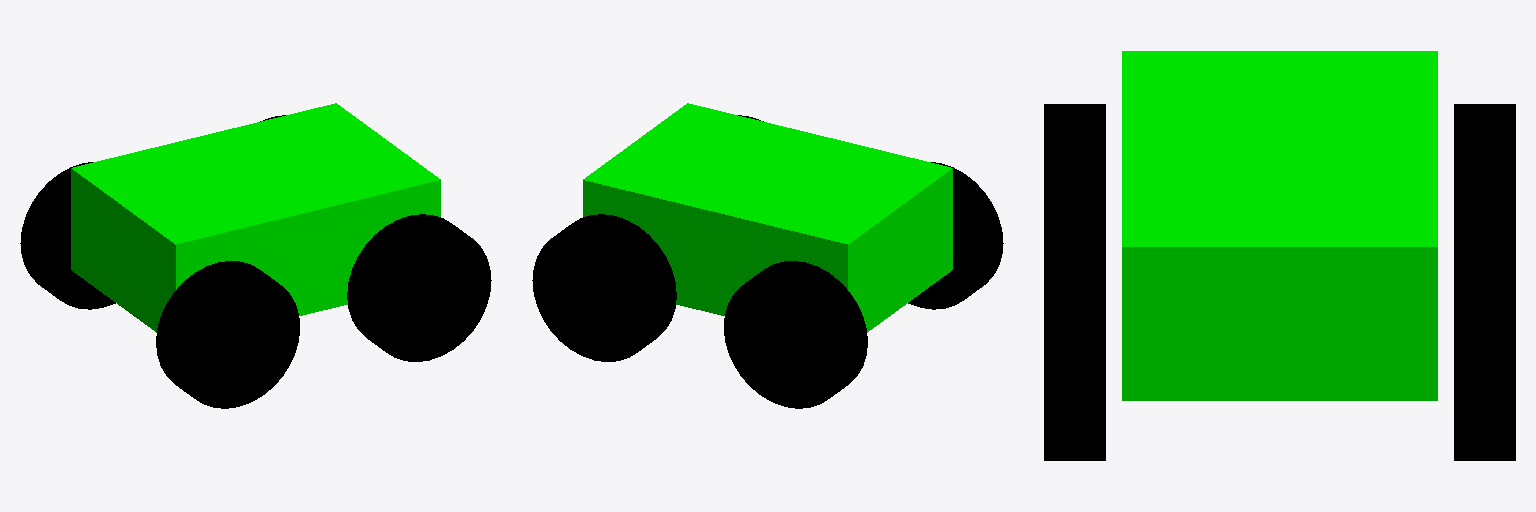
robot.urdf — smb:
<?xml version="1.0" ?>
<!-- =================================================================================== -->
<!-- |    This document was autogenerated by xacro from [local-path]/catkin_ws/src/smb_common/smb_description/urdf/smb_standalone.urdf.xacro | -->
<!-- |    EDITING THIS FILE BY HAND IS NOT RECOMMENDED                                 | -->
<!-- =================================================================================== -->
<robot name="smb" xmlns:xacro="http://www.ros.org/wiki/xacro">
  <gazebo>
    <plugin filename="libsmb_gazebo.so" name="gazebo_ros_control">
      <robotNamespace>smb</robotNamespace>
      <robotDescription>smb_description</robotDescription>
      <robotBaseLink>base</robotBaseLink>
      <statePublisherRate>400.0</statePublisherRate>
    </plugin>
  </gazebo>
  <!-- Materials -->
  <material name="black">
    <color rgba="0 0 0 255"/>
  </material>
  <material name="blue">
    <color rgba="0 0 200 255"/>
  </material>
  <material name="green">
    <color rgba="0 200 0 255"/>
  </material>
  <material name="grey">
    <color rgba="50 50 50 255"/>
  </material>
  <material name="orange">
    <color rgba="255 108 10 255"/>
  </material>
  <material name="brown">
    <color rgba="222 207 195 255"/>
  </material>
  <material name="red">
    <color rgba="200 0 0 255"/>
  </material>
  <material name="white">
    <color rgba="255 255 255 255"/>
  </material>
  <!-- continuous for gazebo -->
  <!-- Global Properties -->
  <!--xacro:property name="robot_name" value="smb"/-->
  <link name="base">
    <collision>
      <origin rpy="0 0 0" xyz="0 0 0"/>
      <geometry>
        <box size="0.6 0.41 0.22"/>
      </geometry>
    </collision>
    <visual>
      <origin rpy="0 0 0" xyz="0 0 0"/>
      <geometry>
        <box size="0.6 0.41 0.22"/>
      </geometry>
      <material name="green"/>
    </visual>
  </link>
  <gazebo reference="base">
    <material>Gazebo/Green</material>
  </gazebo>
  <!-- Fixed joint to add dummy inertia link -->
  <joint name="base_to_base_inertia" type="fixed">
    <parent link="base"/>
    <child link="base_inertia"/>
    <origin rpy="0 0 0" xyz="0 0 0"/>
  </joint>
  <!-- Dummy inertia link, because KDL cannot have inertia on the base link -->
  <link name="base_inertia">
    <inertial>
      <origin rpy="0 0 0" xyz="0 0 0"/>
      <mass value="40"/>
      <inertia ixx="0.721666666667" ixy="0" ixz="0" iyy="1.36133333333" iyz="0" izz="1.36133333333"/>
    </inertial>
  </link>
  <joint name="LF_WHEEL" type="fixed">
    <parent link="base"/>
    <child link="LF_WHEEL"/>
    <origin rpy="1.57079632679 0 0" xyz="0.2159 0.265 -0.08"/>
    <axis rpy="0 0 0" xyz="0 0 1"/>
    <dynamics damping="1.0" friction="0.0"/>
    <limit effort="1" velocity="1"/>
    <joint_properties damping="0.2" friction="0.2"/>
  </joint>
  <link name="LF_WHEEL">
    <collision>
      <origin rpy="0 0 0" xyz="0 0 0"/>
      <geometry>
        <cylinder length="0.08" radius="0.14"/>
      </geometry>
    </collision>
    <visual>
      <origin rpy="0 0 0" xyz="0 0 0"/>
      <geometry>
        <cylinder length="0.08" radius="0.14"/>
      </geometry>
      <material name="black"/>
    </visual>
    <inertial>
      <origin rpy="0 0 0" xyz="0 0 0"/>
      <mass value="5"/>
      <inertia ixx="0.0271666666667" ixy="0" ixz="0" iyy="0.0271666666667" iyz="0" izz="0.049"/>
    </inertial>
  </link>
  <gazebo reference="LF_WHEEL">
    <mu1 value="0.2"/>
    <mu2 value="0.2"/>
    <fdir1 value="1 0 0"/>
    <kp>10000000.0</kp>
    <kd>1.0</kd>
    <minDepth>0.005</minDepth>
    <maxVel>100.0</maxVel>
    <material>Gazebo/Black</material>
  </gazebo>
  <joint name="RF_WHEEL" type="fixed">
    <parent link="base"/>
    <child link="RF_WHEEL"/>
    <origin rpy="1.57079632679 0 0" xyz="0.2159 -0.265 -0.08"/>
    <axis rpy="0 0 0" xyz="0 0 1"/>
    <dynamics damping="1.0" friction="0.0"/>
    <limit effort="1" velocity="1"/>
    <joint_properties damping="0.2" friction="0.2"/>
  </joint>
  <link name="RF_WHEEL">
    <collision>
      <origin rpy="0 0 0" xyz="0 0 0"/>
      <geometry>
        <cylinder length="0.08" radius="0.14"/>
      </geometry>
    </collision>
    <visual>
      <origin rpy="0 0 0" xyz="0 0 0"/>
      <geometry>
        <cylinder length="0.08" radius="0.14"/>
      </geometry>
      <material name="black"/>
    </visual>
    <inertial>
      <origin rpy="0 0 0" xyz="0 0 0"/>
      <mass value="5"/>
      <inertia ixx="0.0271666666667" ixy="0" ixz="0" iyy="0.0271666666667" iyz="0" izz="0.049"/>
    </inertial>
  </link>
  <gazebo reference="RF_WHEEL">
    <mu1 value="0.2"/>
    <mu2 value="0.2"/>
    <fdir1 value="1 0 0"/>
    <kp>10000000.0</kp>
    <kd>1.0</kd>
    <minDepth>0.005</minDepth>
    <maxVel>100.0</maxVel>
    <material>Gazebo/Black</material>
  </gazebo>
  <joint name="LH_WHEEL" type="fixed">
    <parent link="base"/>
    <child link="LH_WHEEL"/>
    <origin rpy="1.57079632679 0 0" xyz="-0.2159 0.265 -0.08"/>
    <axis rpy="0 0 0" xyz="0 0 1"/>
    <dynamics damping="1.0" friction="0.0"/>
    <limit effort="1" velocity="1"/>
    <joint_properties damping="0.2" friction="0.2"/>
  </joint>
  <link name="LH_WHEEL">
    <collision>
      <origin rpy="0 0 0" xyz="0 0 0"/>
      <geometry>
        <cylinder length="0.08" radius="0.14"/>
      </geometry>
    </collision>
    <visual>
      <origin rpy="0 0 0" xyz="0 0 0"/>
      <geometry>
        <cylinder length="0.08" radius="0.14"/>
      </geometry>
      <material name="black"/>
    </visual>
    <inertial>
      <origin rpy="0 0 0" xyz="0 0 0"/>
      <mass value="5"/>
      <inertia ixx="0.0271666666667" ixy="0" ixz="0" iyy="0.0271666666667" iyz="0" izz="0.049"/>
    </inertial>
  </link>
  <gazebo reference="LH_WHEEL">
    <mu1 value="0.2"/>
    <mu2 value="0.2"/>
    <fdir1 value="1 0 0"/>
    <kp>10000000.0</kp>
    <kd>1.0</kd>
    <minDepth>0.005</minDepth>
    <maxVel>100.0</maxVel>
    <material>Gazebo/Black</material>
  </gazebo>
  <joint name="RH_WHEEL" type="fixed">
    <parent link="base"/>
    <child link="RH_WHEEL"/>
    <origin rpy="1.57079632679 0 0" xyz="-0.2159 -0.265 -0.08"/>
    <axis rpy="0 0 0" xyz="0 0 1"/>
    <dynamics damping="1.0" friction="0.0"/>
    <limit effort="1" velocity="1"/>
    <joint_properties damping="0.2" friction="0.2"/>
  </joint>
  <link name="RH_WHEEL">
    <collision>
      <origin rpy="0 0 0" xyz="0 0 0"/>
      <geometry>
        <cylinder length="0.08" radius="0.14"/>
      </geometry>
    </collision>
    <visual>
      <origin rpy="0 0 0" xyz="0 0 0"/>
      <geometry>
        <cylinder length="0.08" radius="0.14"/>
      </geometry>
      <material name="black"/>
    </visual>
    <inertial>
      <origin rpy="0 0 0" xyz="0 0 0"/>
      <mass value="5"/>
      <inertia ixx="0.0271666666667" ixy="0" ixz="0" iyy="0.0271666666667" iyz="0" izz="0.049"/>
    </inertial>
  </link>
  <gazebo reference="RH_WHEEL">
    <mu1 value="0.2"/>
    <mu2 value="0.2"/>
    <fdir1 value="1 0 0"/>
    <kp>10000000.0</kp>
    <kd>1.0</kd>
    <minDepth>0.005</minDepth>
    <maxVel>100.0</maxVel>
    <material>Gazebo/Black</material>
  </gazebo>
</robot>

--- What the picture shows (computed from the rendered views, not written in the file) ---
Views: 3 orthographic renders of the robot side by side, from view 1: azimuth 30°, elevation 25°; view 2: azimuth 150°, elevation 25°; view 3: azimuth 270°, elevation 25°.
Robot: smb — 6 links, 5 joints (5 fixed); root link base; default pose: every joint at zero.
Visible links, largest first — view 1: base, RF_WHEEL, RH_WHEEL, LH_WHEEL; view 2: base, LF_WHEEL, LH_WHEEL, RH_WHEEL; view 3: base, LF_WHEEL, RF_WHEEL, LH_WHEEL, RH_WHEEL.
Boxes of the visible links, x1,y1,x2,y2 form: base: [71, 103, 440, 332]; RF_WHEEL: [347, 214, 491, 361]; RH_WHEEL: [156, 261, 299, 408]; LH_WHEEL: [20, 162, 115, 309]; base: [583, 103, 952, 332]; LF_WHEEL: [532, 214, 676, 361]; LH_WHEEL: [724, 261, 867, 408]; RH_WHEEL: [908, 162, 1003, 309]; base: [1122, 51, 1437, 400]; LF_WHEEL: [1454, 245, 1515, 460]; RF_WHEEL: [1044, 245, 1105, 460]; LH_WHEEL: [1454, 104, 1515, 244]; RH_WHEEL: [1044, 104, 1105, 244].
Size in the robot's own frame: 0.7118 by 0.61 by 0.33 metres.
Geometry: primitives only (box / cylinder / sphere), no mesh files.